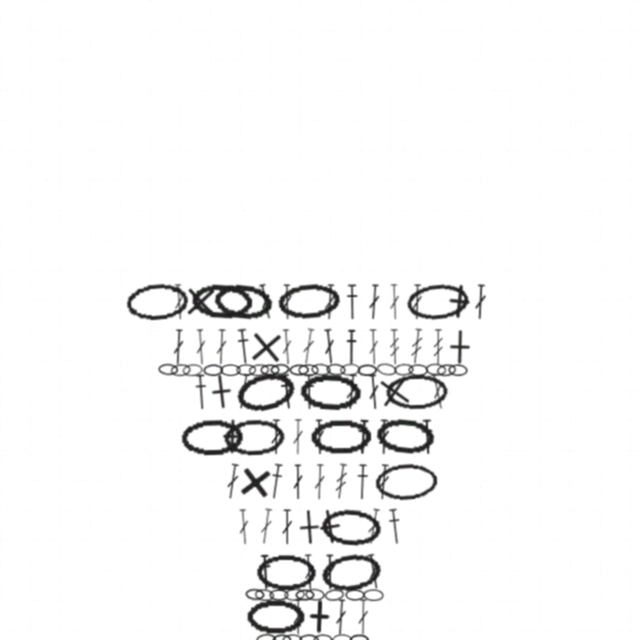chain: (233, 367, 299, 416), (319, 550, 384, 594), (405, 281, 471, 323), (125, 281, 190, 322), (276, 281, 341, 322), (212, 281, 275, 323), (374, 416, 437, 457), (320, 507, 383, 547), (374, 462, 438, 501), (190, 282, 253, 321), (385, 373, 449, 411), (299, 372, 361, 411), (180, 418, 243, 456), (223, 418, 286, 456), (256, 554, 317, 590), (310, 419, 371, 455), (246, 599, 306, 635), (376, 362, 397, 377), (248, 363, 270, 377), (254, 588, 275, 602), (324, 588, 345, 602), (170, 363, 191, 377), (182, 363, 203, 377), (436, 363, 457, 377), (425, 363, 447, 376), (284, 588, 305, 601), (245, 588, 265, 601), (305, 588, 325, 601), (158, 363, 178, 376), (270, 363, 290, 376), (311, 363, 331, 376), (326, 363, 346, 376), (340, 363, 360, 376), (394, 363, 414, 376), (363, 589, 384, 601), (220, 364, 241, 376), (298, 364, 319, 376), (269, 589, 289, 601), (295, 589, 315, 601), (345, 589, 365, 601), (203, 364, 223, 376), (236, 364, 256, 376), (260, 364, 280, 376), (289, 364, 309, 376), (357, 364, 377, 376), (408, 364, 428, 376), (448, 364, 468, 376), (256, 633, 276, 640), (272, 634, 292, 640), (282, 634, 302, 640), (299, 634, 319, 640), (313, 634, 333, 640), (332, 634, 352, 640), (349, 634, 369, 640)
double: (428, 373, 447, 410), (256, 283, 275, 320), (365, 553, 382, 590), (365, 508, 382, 545), (224, 463, 241, 500), (235, 373, 252, 410), (300, 328, 317, 365), (258, 508, 274, 545), (322, 328, 337, 365), (376, 464, 391, 500), (344, 374, 359, 410), (334, 599, 348, 635), (302, 554, 316, 590), (237, 509, 251, 545), (367, 374, 381, 410), (194, 329, 208, 365), (280, 329, 294, 365), (172, 284, 186, 320), (323, 284, 337, 320), (367, 284, 381, 320), (313, 464, 326, 500), (313, 419, 326, 455), (172, 329, 185, 365), (215, 329, 228, 365), (367, 329, 380, 365), (388, 284, 401, 320), (474, 284, 487, 320), (292, 599, 304, 635), (357, 599, 369, 635), (324, 554, 336, 590), (281, 509, 293, 545), (292, 464, 304, 500), (270, 419, 282, 455), (292, 419, 304, 455), (378, 419, 390, 455), (281, 284, 293, 320), (411, 284, 423, 320)
half_double: (386, 508, 404, 545), (267, 463, 285, 500), (278, 373, 296, 410), (235, 328, 252, 365), (355, 419, 371, 455), (193, 374, 209, 410), (258, 554, 273, 590), (355, 464, 370, 500), (420, 419, 435, 455), (302, 374, 316, 410), (345, 284, 359, 320), (345, 329, 358, 365)
single: (309, 506, 350, 547), (374, 371, 415, 412), (235, 462, 275, 502), (202, 372, 241, 411), (440, 282, 479, 321), (290, 508, 328, 546), (247, 328, 285, 366), (301, 598, 338, 635), (214, 418, 251, 455), (182, 283, 219, 320), (442, 329, 478, 365)
treble: (333, 463, 349, 500), (409, 328, 424, 365), (388, 329, 401, 365), (432, 329, 444, 365)
